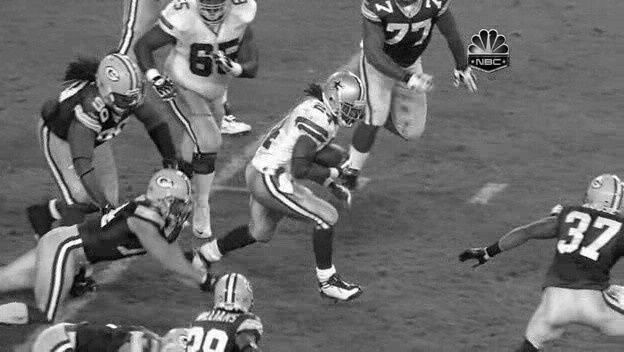person: (325, 75, 361, 124), (324, 75, 360, 124), (326, 75, 362, 124), (325, 74, 361, 123), (325, 76, 361, 125)
target_negative: (469, 168, 559, 271), (23, 217, 228, 238), (164, 266, 206, 314), (356, 129, 416, 158), (584, 2, 589, 342), (554, 306, 572, 339)
